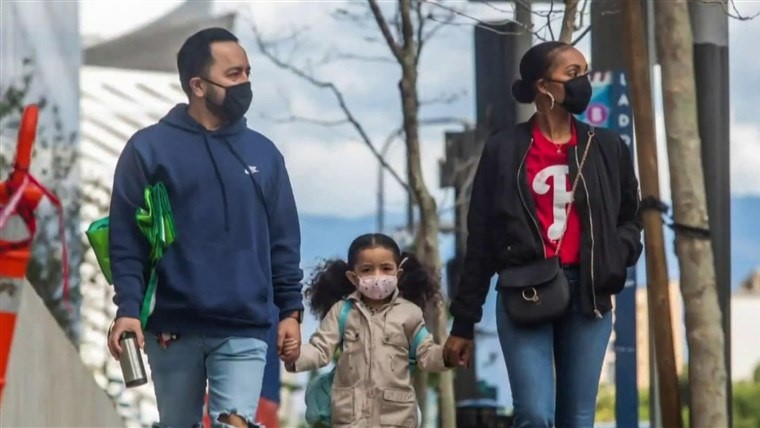face_with_mask: (172, 24, 257, 123), (517, 41, 595, 126), (347, 232, 403, 301)
